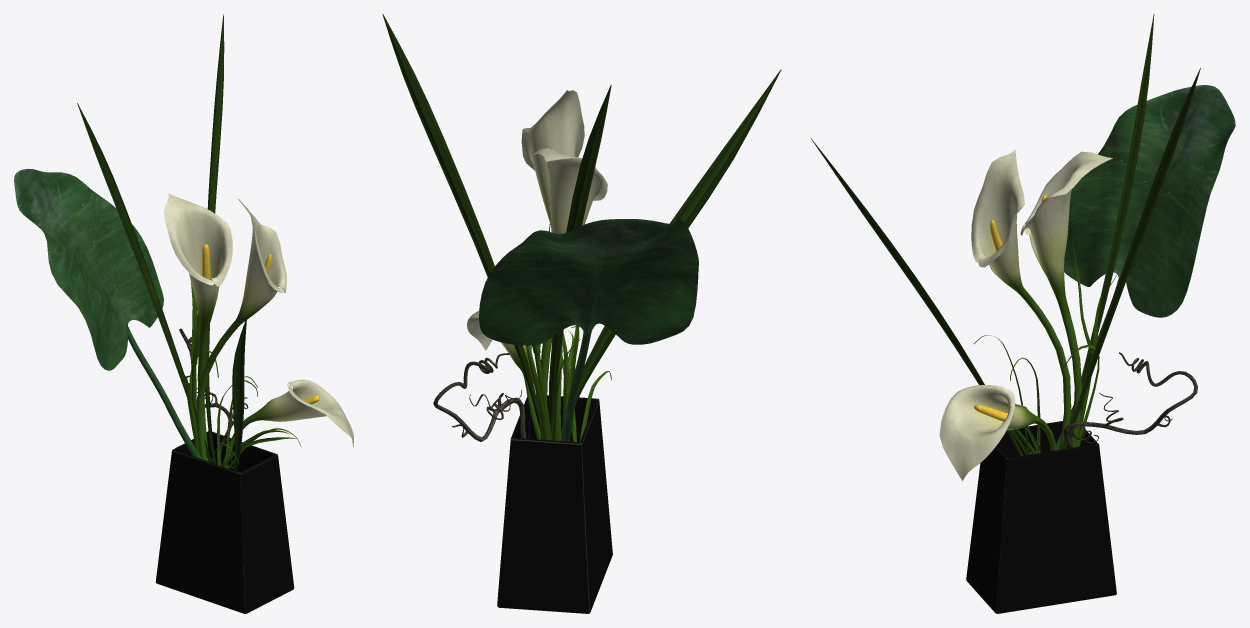
File: Matilian.FBX
3 renders of one model, left to right at view 1: azimuth 30°, elevation 25°; view 2: azimuth 150°, elevation 25°; view 3: azimuth 270°, elevation 25°, orthographic. The views are drawn at different scales.
Parts seen in each view (by area): view 1: Bolihuaping, Yezi, polySurface48, polySurface49, polySurface50, polySurface2, polySurface3, polySurface1, polySurface13, Tengman; view 2: Yezi, Bolihuaping, polySurface3, polySurface49, polySurface1, polySurface48, polySurface2, Tengman, polySurface50, polySurface11; view 3: Yezi, Bolihuaping, polySurface49, polySurface48, polySurface50, polySurface3, polySurface2, polySurface1, Tengman.
Boxes of the visible parts, <box> form: Bolihuaping: <box>155,431,294,613</box>; Yezi: <box>14,169,202,459</box>; polySurface48: <box>164,193,232,461</box>; polySurface49: <box>196,198,286,460</box>; polySurface50: <box>222,379,353,463</box>; polySurface2: <box>77,103,212,462</box>; polySurface3: <box>205,14,224,463</box>; polySurface1: <box>232,317,246,471</box>; polySurface13: <box>191,283,197,412</box>; Tengman: <box>179,328,248,468</box>; Yezi: <box>479,219,698,441</box>; Bolihuaping: <box>497,395,612,613</box>; polySurface3: <box>382,14,540,430</box>; polySurface49: <box>521,90,584,440</box>; polySurface1: <box>561,69,781,437</box>; polySurface48: <box>533,148,607,439</box>; polySurface2: <box>548,85,611,434</box>; Tengman: <box>433,353,526,441</box>; polySurface50: <box>467,311,540,439</box>; polySurface11: <box>526,345,549,440</box>; Yezi: <box>1056,85,1235,450</box>; Bolihuaping: <box>966,421,1116,613</box>; polySurface49: <box>971,149,1071,449</box>; polySurface48: <box>1020,151,1112,448</box>; polySurface50: <box>939,385,1056,480</box>; polySurface3: <box>1062,68,1200,449</box>; polySurface2: <box>1060,14,1154,449</box>; polySurface1: <box>810,137,1023,456</box>; Tengman: <box>1029,352,1197,454</box>.
Bounding box in the file's own units: 25.34 × 49.36 × 34.07.
2 materials, 2 textured.
